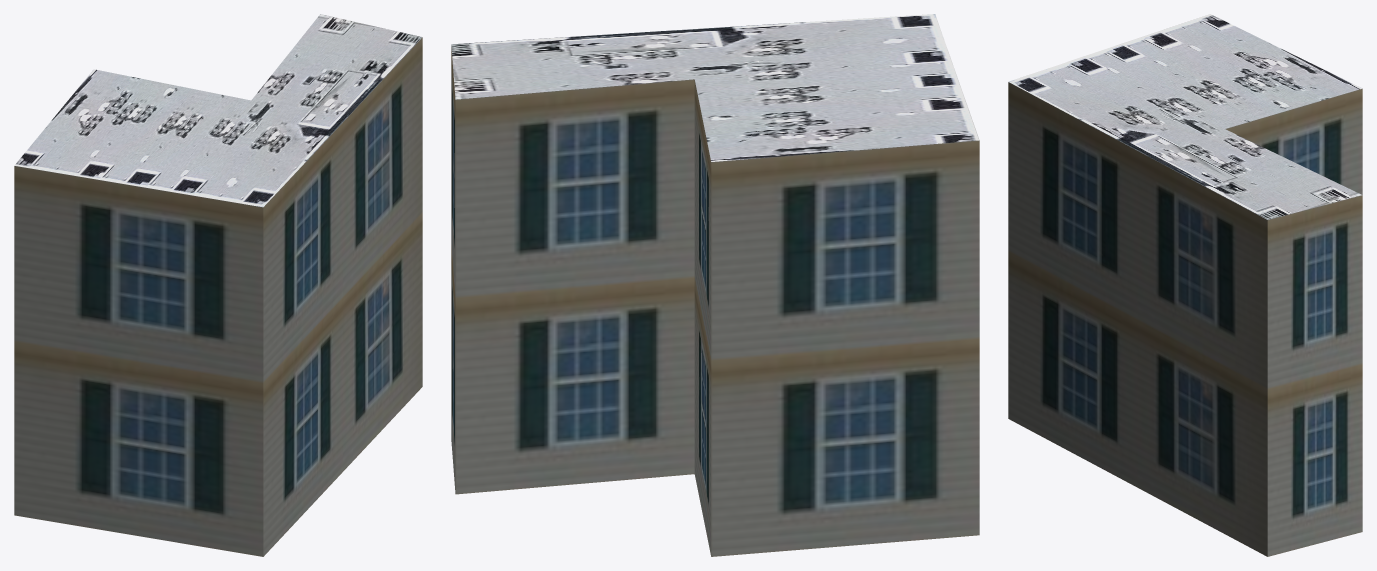
File: ResTex__4530.fbx
3 views of the same model, side by side, from view 1: azimuth 30°, elevation 25°; view 2: azimuth 150°, elevation 25°; view 3: azimuth 270°, elevation 25° (orthographic). The views are drawn at different scales.
Visible parts, largest first — view 1: CityEngineMaterial_7_m, CityEngineMaterial_8_m; view 2: CityEngineMaterial_7_m, CityEngineMaterial_8_m; view 3: CityEngineMaterial_7_m, CityEngineMaterial_8_m.
Part boxes in pixels (bbox=[...]): CityEngineMaterial_7_m: bbox=[14, 37, 422, 556]; CityEngineMaterial_8_m: bbox=[14, 14, 422, 207]; CityEngineMaterial_7_m: bbox=[451, 47, 979, 556]; CityEngineMaterial_8_m: bbox=[451, 14, 979, 161]; CityEngineMaterial_7_m: bbox=[1008, 82, 1362, 556]; CityEngineMaterial_8_m: bbox=[1008, 14, 1362, 219].
Bounding box in the file's own units: 7.87 × 6 × 5.72.
Materials: 2 (2 with a texture image).
